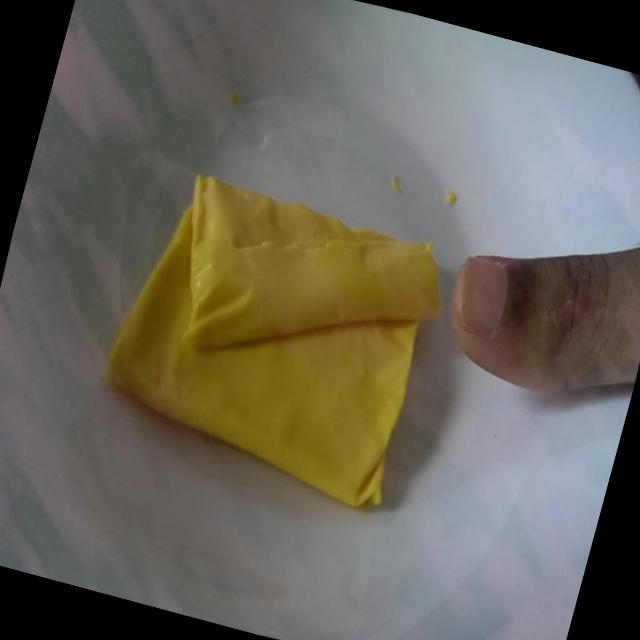Cheese: (62, 145, 470, 550)
Finger: (417, 198, 632, 423)
